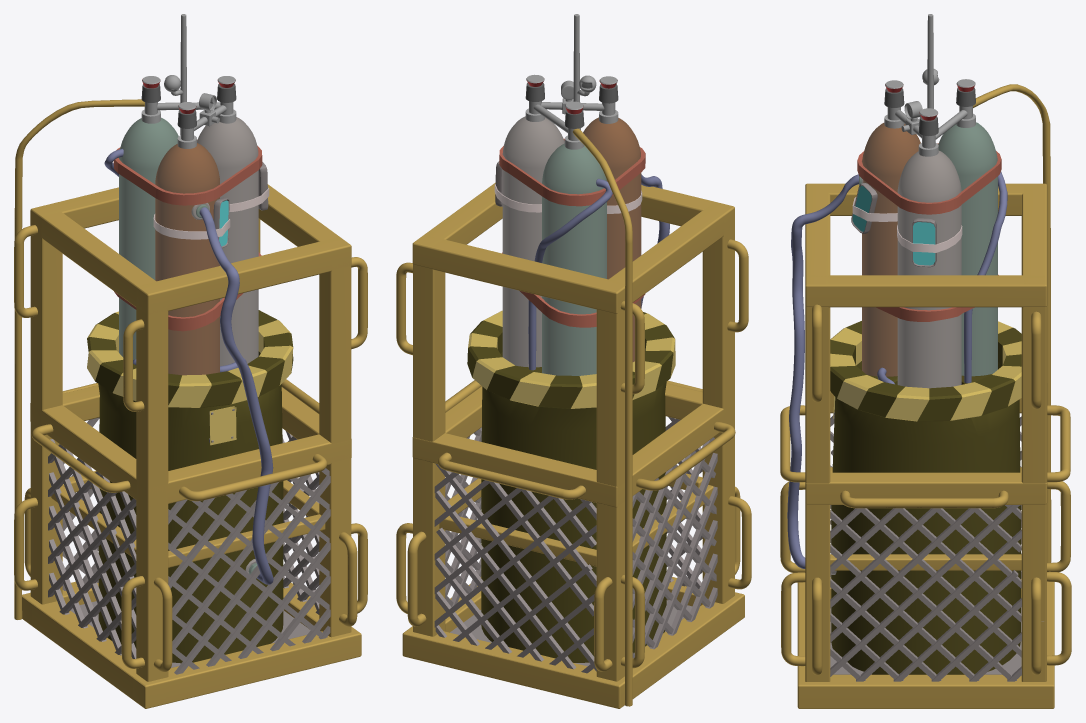
The model's file is bomb.glb.
3 renders of one model, left to right at view 1: azimuth 30°, elevation 25°; view 2: azimuth 150°, elevation 25°; view 3: azimuth 270°, elevation 25°, orthographic. The views are drawn at different scales.
Parts seen in each view (by area): view 1: group24, polySurface6, pSphere4, polySurface5, polySurface26, pSphere6, pCylinder27, pCube32 (×3), pCylinder30, pCube30 (×3), pCylinder9 (×3), pCube34 (×3) (+20 smaller); view 2: group24, polySurface6, pSphere6, polySurface5, polySurface26, pCylinder30, pSphere4, pCube33 (×3), pCube31 (×3), pCylinder10 (×3), pCube29 (×3), pCube27 (×3) (+16 smaller); view 3: group24, polySurface6, polySurface26, polySurface5, pSphere6, pSphere4, pCylinder27, pCylinder10 (×3), pCylinder9 (×3), pCylinder30, polySurface1, pCylinder23 (+25 smaller).
Part boxes in pixels (bbox=[...]): group24: bbox=[22, 184, 361, 708]; polySurface6: bbox=[98, 351, 283, 663]; pSphere4: bbox=[155, 143, 219, 375]; polySurface5: bbox=[87, 310, 293, 407]; polySurface26: bbox=[197, 117, 258, 366]; pSphere6: bbox=[119, 117, 178, 360]; pCylinder27: bbox=[199, 207, 273, 584]; pCube32 (×3): bbox=[50, 439, 330, 674]; pCylinder30: bbox=[14, 99, 144, 619]; pCube30 (×3): bbox=[49, 472, 330, 666]; pCylinder9 (×3): bbox=[14, 497, 367, 672]; pCube34 (×3): bbox=[63, 447, 329, 652]; group24: bbox=[402, 182, 744, 708]; polySurface6: bbox=[481, 352, 666, 662]; pSphere6: bbox=[542, 143, 606, 375]; polySurface5: bbox=[467, 310, 675, 408]; polySurface26: bbox=[502, 116, 564, 367]; pCylinder30: bbox=[573, 128, 632, 706]; pSphere4: bbox=[583, 117, 641, 361]; pCube33 (×3): bbox=[434, 437, 713, 671]; pCube31 (×3): bbox=[435, 453, 717, 669]; pCylinder10 (×3): bbox=[396, 496, 751, 671]; pCube29 (×3): bbox=[436, 486, 717, 661]; pCube27 (×3): bbox=[435, 520, 717, 657]; group24: bbox=[797, 183, 1054, 708]; polySurface6: bbox=[831, 361, 1020, 674]; polySurface26: bbox=[897, 150, 961, 388]; polySurface5: bbox=[830, 321, 1021, 421]; pSphere6: bbox=[938, 122, 997, 376]; pSphere4: bbox=[862, 123, 920, 376]; pCylinder27: bbox=[787, 174, 858, 568]; pCylinder10 (×3): bbox=[781, 481, 1070, 674]; pCylinder9 (×3): bbox=[780, 482, 1071, 675]; pCylinder30: bbox=[973, 84, 1051, 562]; polySurface1: bbox=[857, 143, 1001, 214]; pCylinder23: bbox=[840, 490, 1008, 508].
Size of the model in its own units: 11.68 by 28.06 by 11.6.
